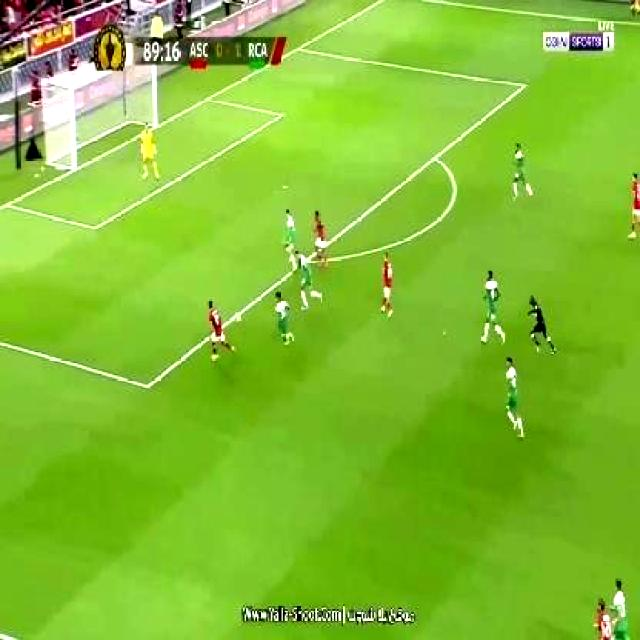bigarea_bottom_inner: (138, 372, 156, 398)
bigarea_top_inner: (518, 78, 528, 94)
bigarea_top_outter: (292, 43, 302, 55)
bottom_arc_area_intersection: (302, 254, 309, 266)
smallarea_bottom_inner: (88, 216, 103, 238)
smallarea_bottom_outter: (0, 194, 15, 214)
smallarea_top_inner: (276, 108, 286, 120)
smallarea_top_outter: (202, 92, 212, 105)
top_arc_area_intersection: (429, 149, 440, 165)
